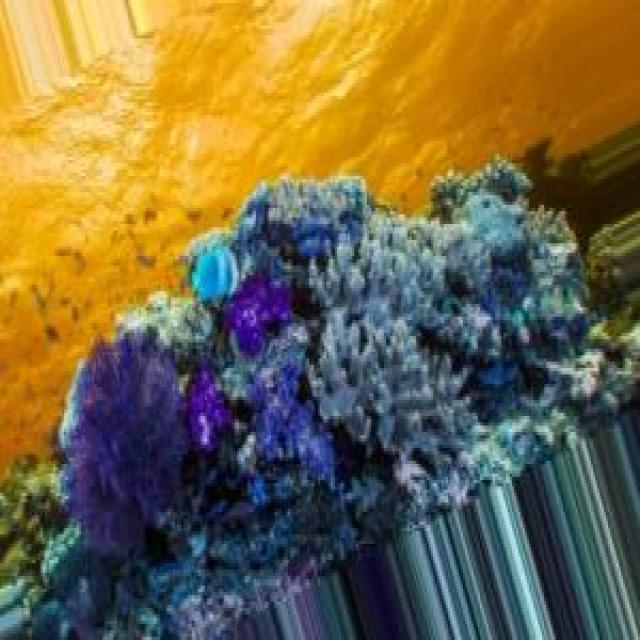Healthy: (1, 140, 640, 638), (317, 193, 558, 484), (67, 328, 193, 567), (184, 337, 240, 459)
